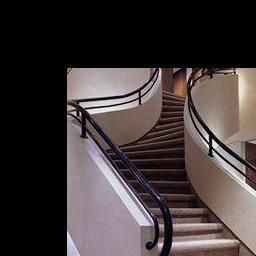Escaleras: (74, 76, 256, 256)
